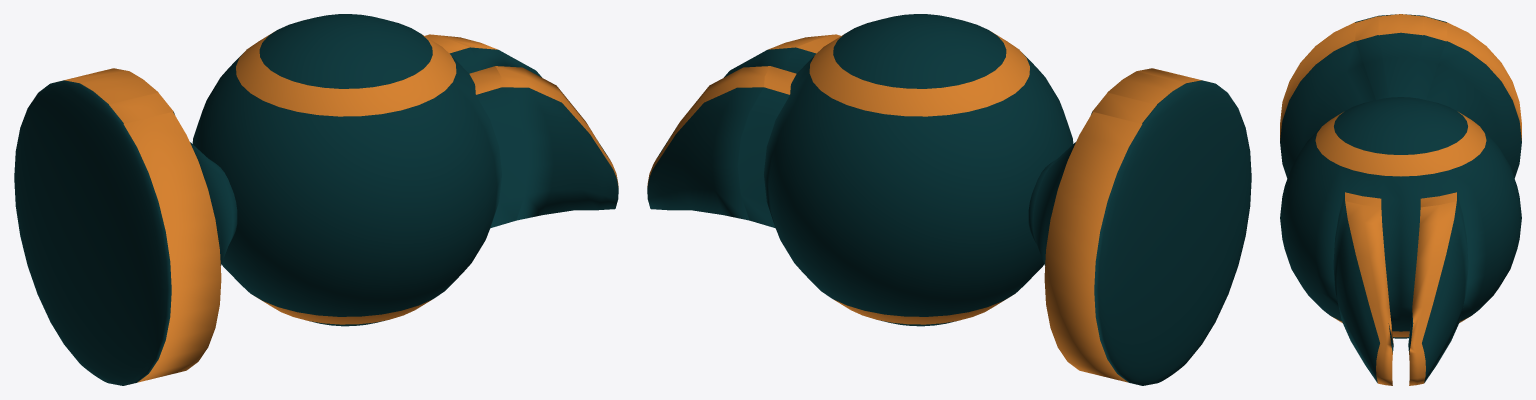
File: HammerHat_2.fbx
The picture shows the model from 3 angles, left to right: view 1: azimuth 30°, elevation 25°; view 2: azimuth 150°, elevation 25°; view 3: azimuth 270°, elevation 25°; orthographic projection. The views are drawn at different scales.
Parts seen in each view (by area): view 1: Sphere; view 2: Sphere; view 3: Sphere.
Part boxes in pixels (box(x1,y1,x2,y2)): Sphere: box(14, 14, 618, 385); Sphere: box(647, 14, 1251, 385); Sphere: box(1280, 14, 1521, 385).
Bounding box in the file's own units: 392 × 201 × 200.
